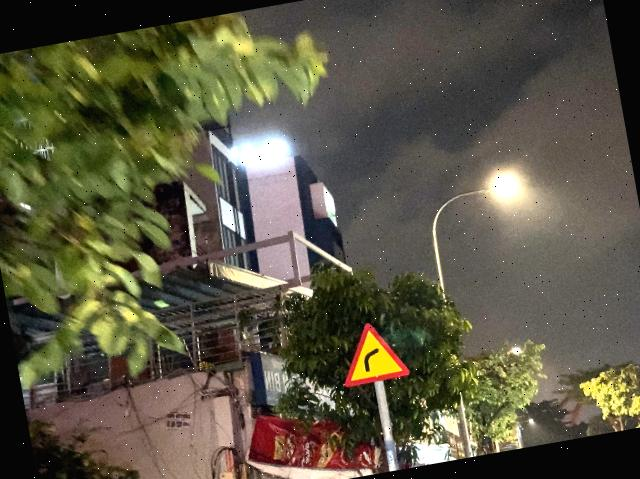cho-ngoat-nguy-hiem-ben-trai: (335, 317, 410, 388)
